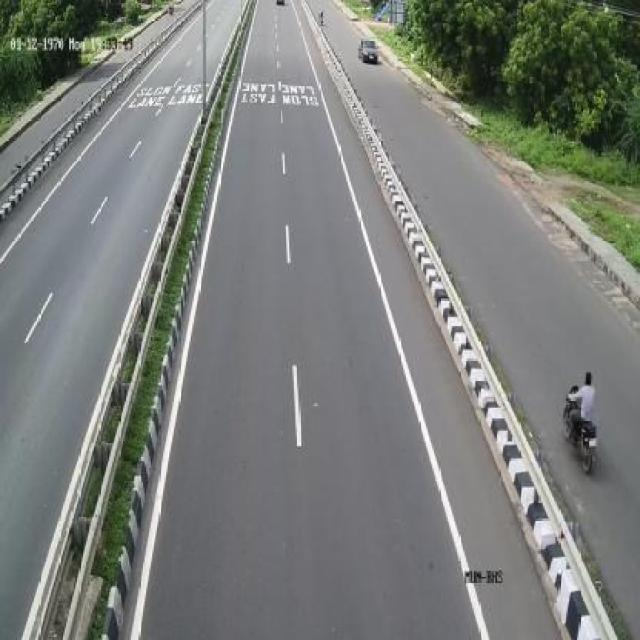car: (358, 29, 380, 72)
